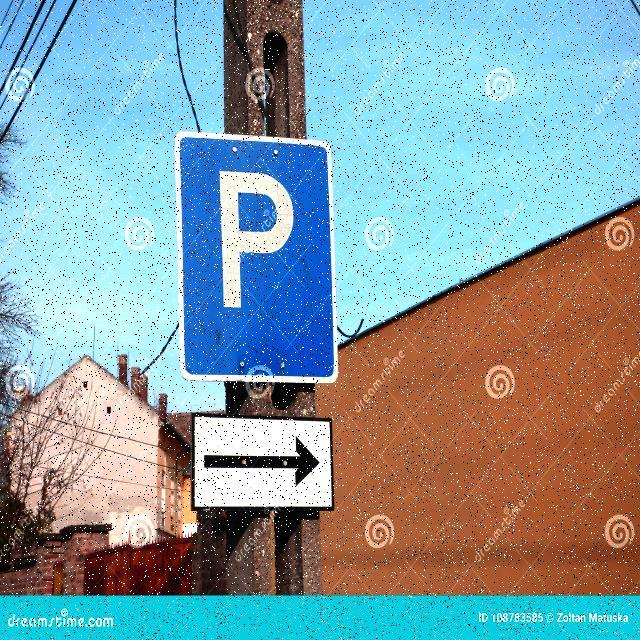Traffic sign: (157, 121, 345, 519)
